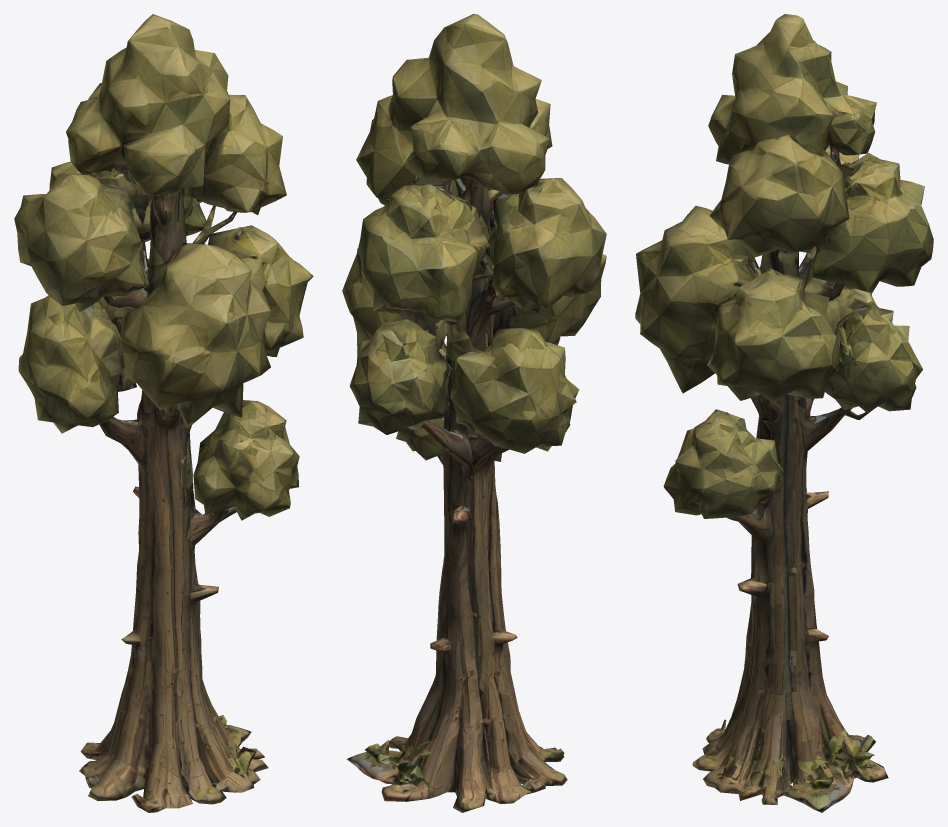
File: P02_TallForestTree.glb
3 views of the same model, side by side, from view 1: azimuth 30°, elevation 25°; view 2: azimuth 150°, elevation 25°; view 3: azimuth 270°, elevation 25° (orthographic).
Parts seen in each view (by area): view 1: texture_mapping; view 2: texture_mapping; view 3: texture_mapping.
Part boxes in pixels (<box>): texture_mapping: <box>14,14,313,812</box>; texture_mapping: <box>342,14,606,812</box>; texture_mapping: <box>635,14,933,812</box>.
Size of the model in its own units: 0.3523 by 0.9984 by 0.3637.
Materials: 1 (1 with a texture image).
